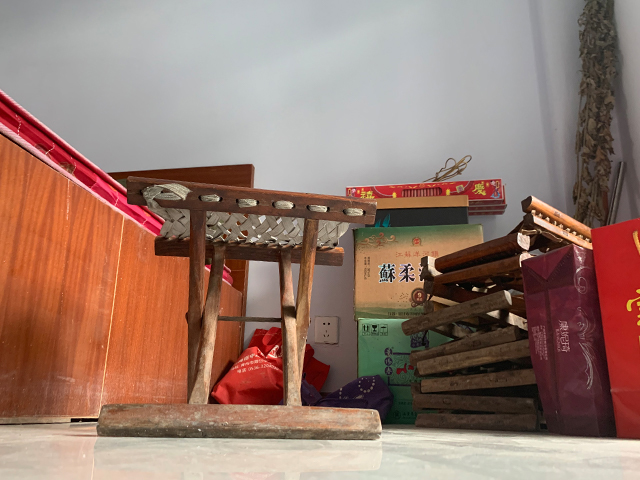bed: (1, 89, 256, 427)
stool: (95, 176, 384, 441), (401, 191, 593, 430)
